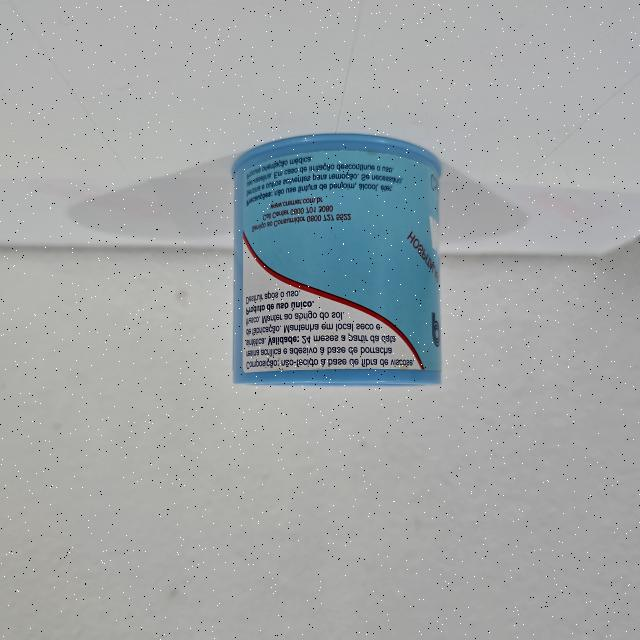procitex: (226, 127, 444, 392)
